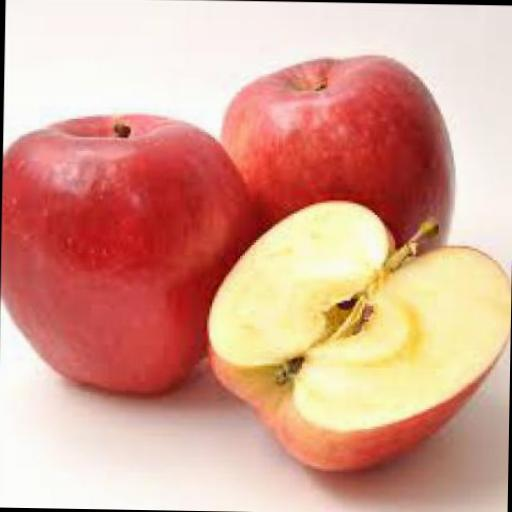biodegradable: (196, 192, 511, 476), (0, 109, 251, 396), (214, 49, 455, 254)
